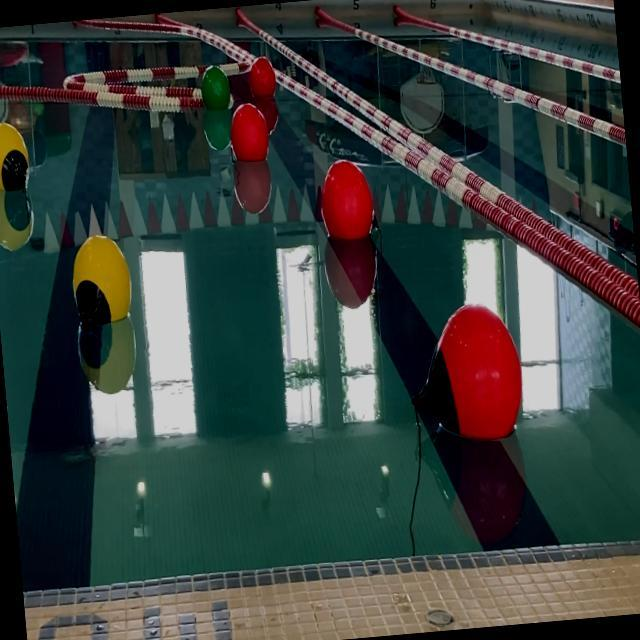buoy: (399, 299, 526, 446), (70, 232, 134, 330), (316, 154, 376, 244), (227, 98, 271, 166), (0, 119, 30, 194), (198, 65, 232, 112), (246, 55, 276, 100)
